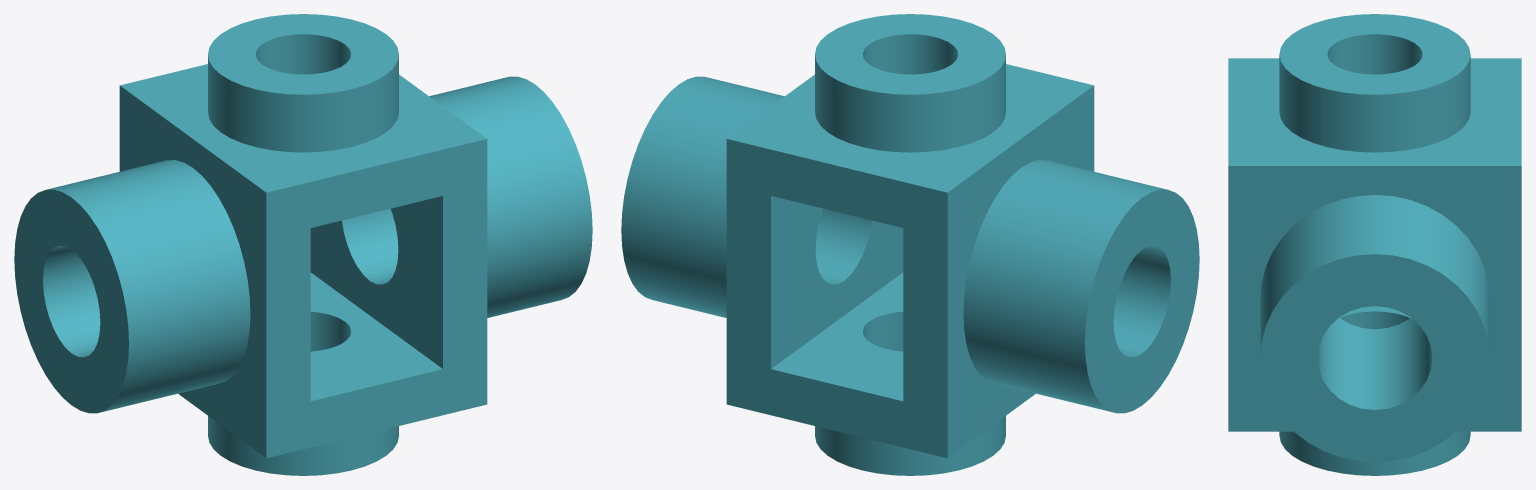
3 views of the same model, side by side, from view 1: azimuth 30°, elevation 25°; view 2: azimuth 150°, elevation 25°; view 3: azimuth 270°, elevation 25° (orthographic).
Parts seen in each view (by area): view 1: Solid1; view 2: Solid1; view 3: Solid1.
Part boxes in pixels (x1,y1,x2,y2): Solid1: (14, 14, 592, 475); Solid1: (621, 14, 1199, 475); Solid1: (1228, 14, 1521, 475).
Bounding box in the file's own units: 0.084 × 0.066 × 0.046.
